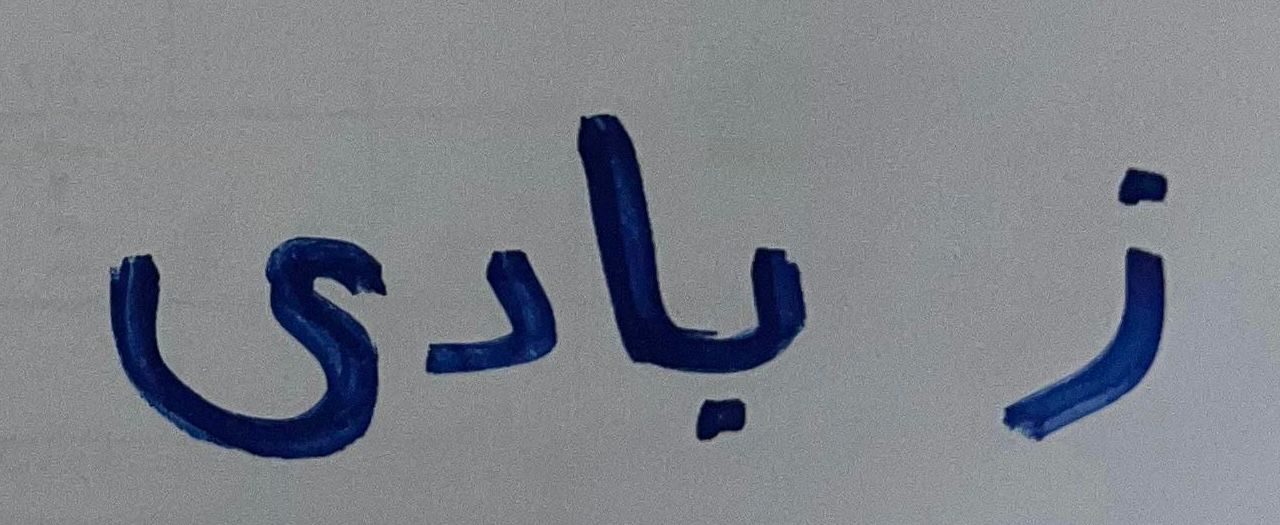alef: (571, 70, 667, 393)
beh: (674, 227, 844, 458)
dal: (406, 233, 565, 388)
teh: (74, 199, 399, 476)
zain: (976, 104, 1229, 472)
